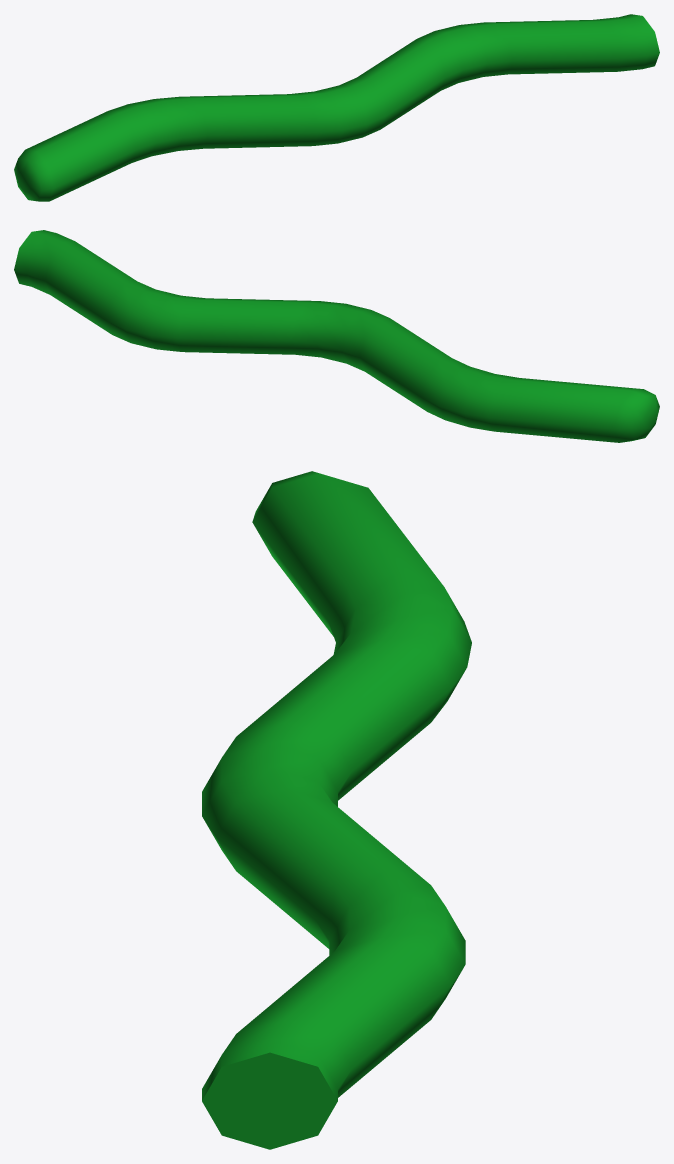
File: Souse_half.003.fbx
3 renders of one model, top to bottom at view 1: azimuth 30°, elevation 25°; view 2: azimuth 150°, elevation 25°; view 3: azimuth 270°, elevation 25°, orthographic. The views are drawn at different scales.
Visible parts, largest first — view 1: Souse_half.003; view 2: Souse_half.003; view 3: Souse_half.003.
Boxes of the visible parts, x1,y1,x2,y2 form: Souse_half.003: [14, 14, 659, 201]; Souse_half.003: [14, 230, 659, 442]; Souse_half.003: [202, 471, 471, 1149].
Size of the model in its own units: 76.28 by 14.66 by 5.82.
